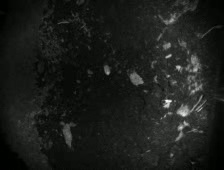corn: (101, 62, 113, 78)
